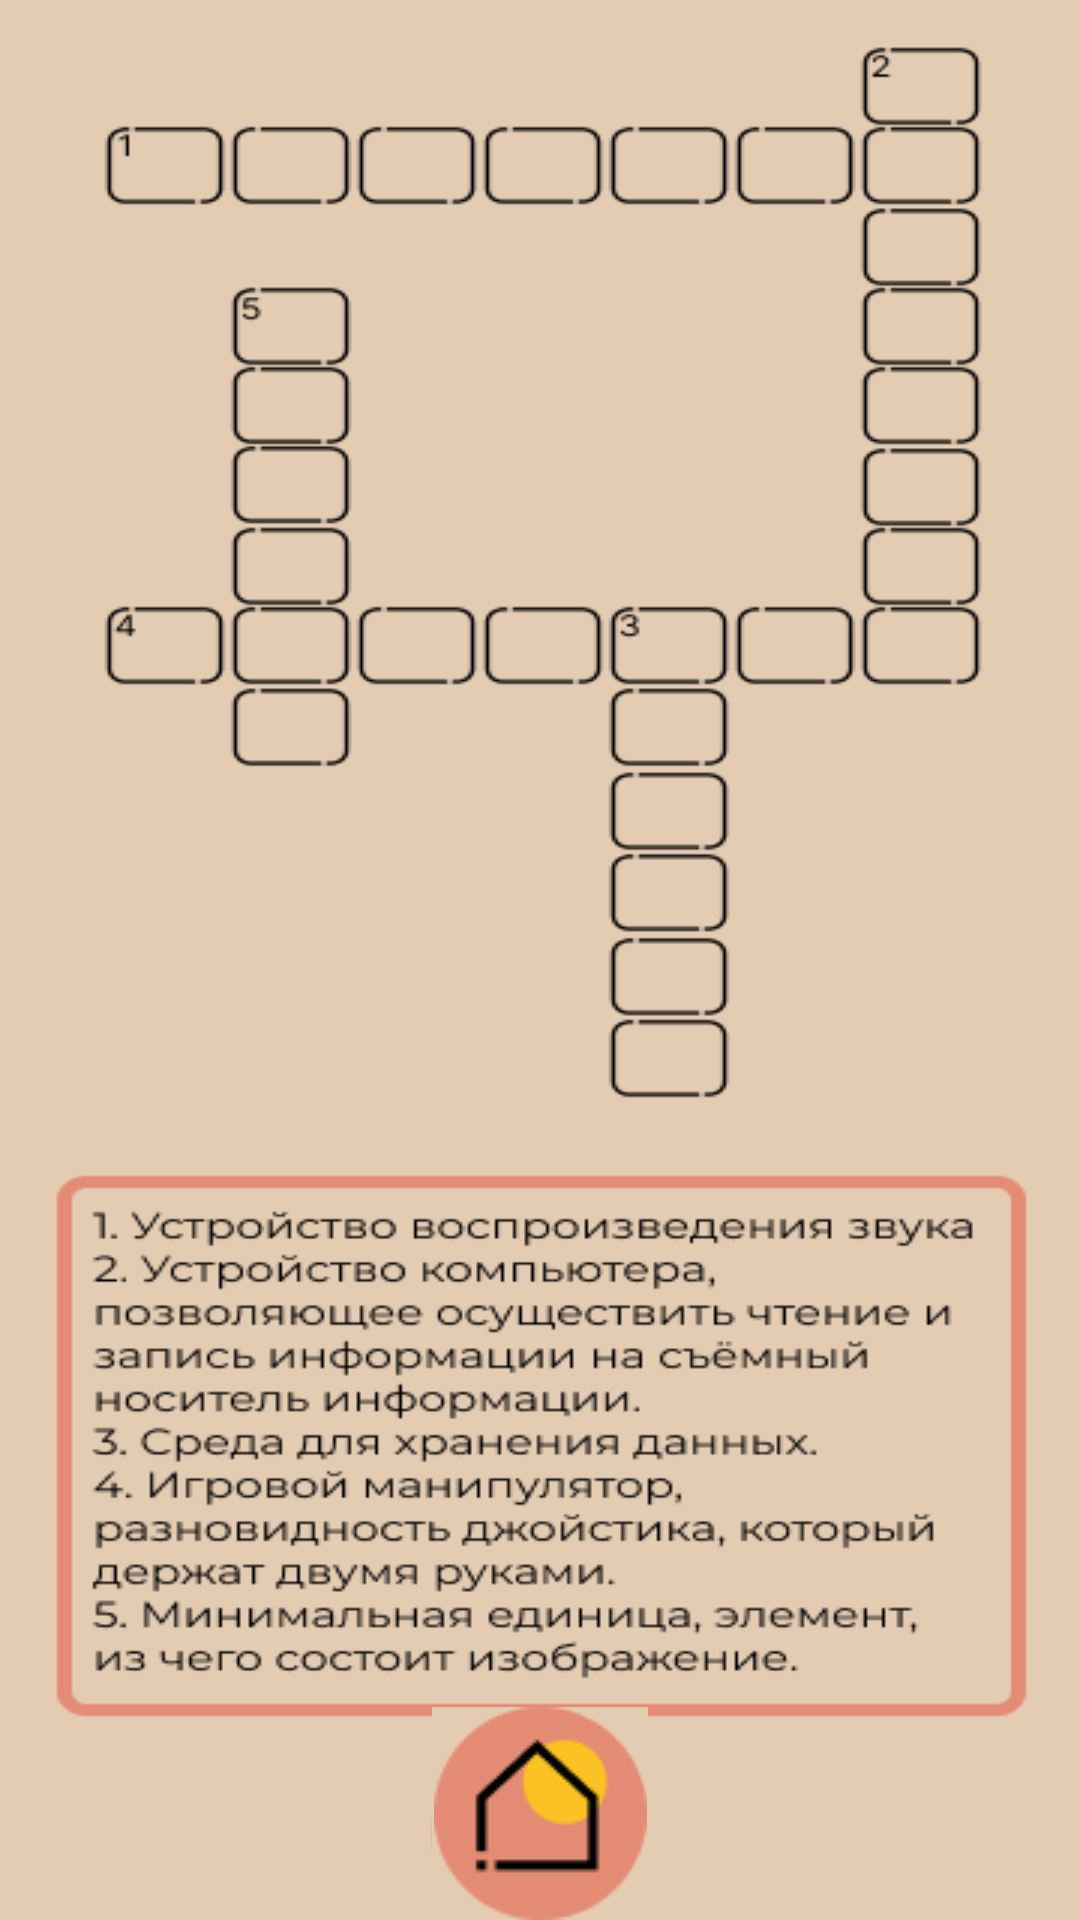

Screen size 1080 × 1920. Icon name, then its box in pixels as [x1, y1, x2, y2]:
home: [434, 1707, 647, 1920]
